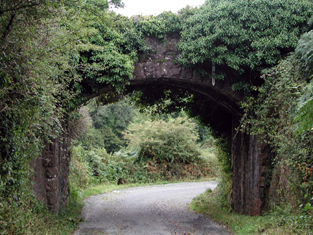bridge: (28, 15, 279, 214)
